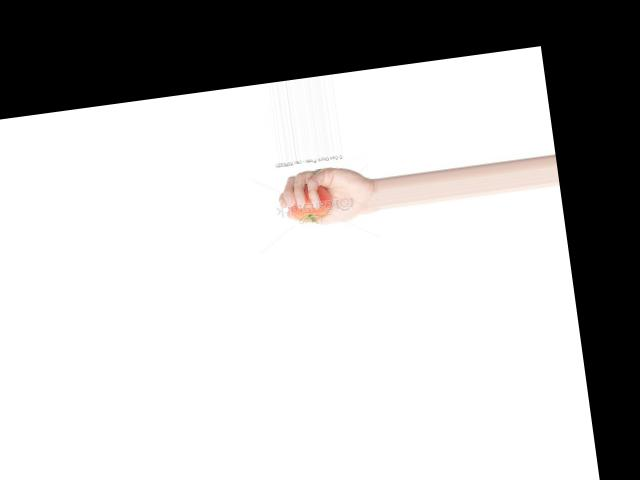tomato: (285, 182, 332, 224)
